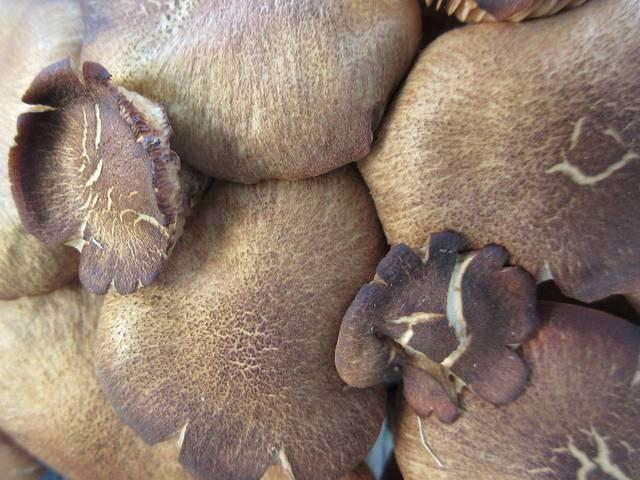edible_mushroom: (0, 0, 640, 480), (6, 54, 205, 296), (333, 229, 539, 423)
